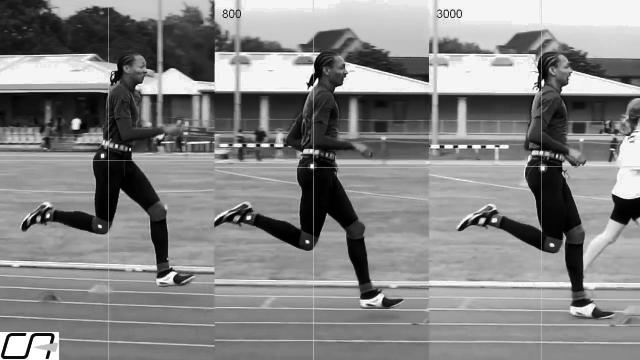berlari: (218, 47, 404, 315), (18, 44, 200, 300), (451, 47, 617, 321)
